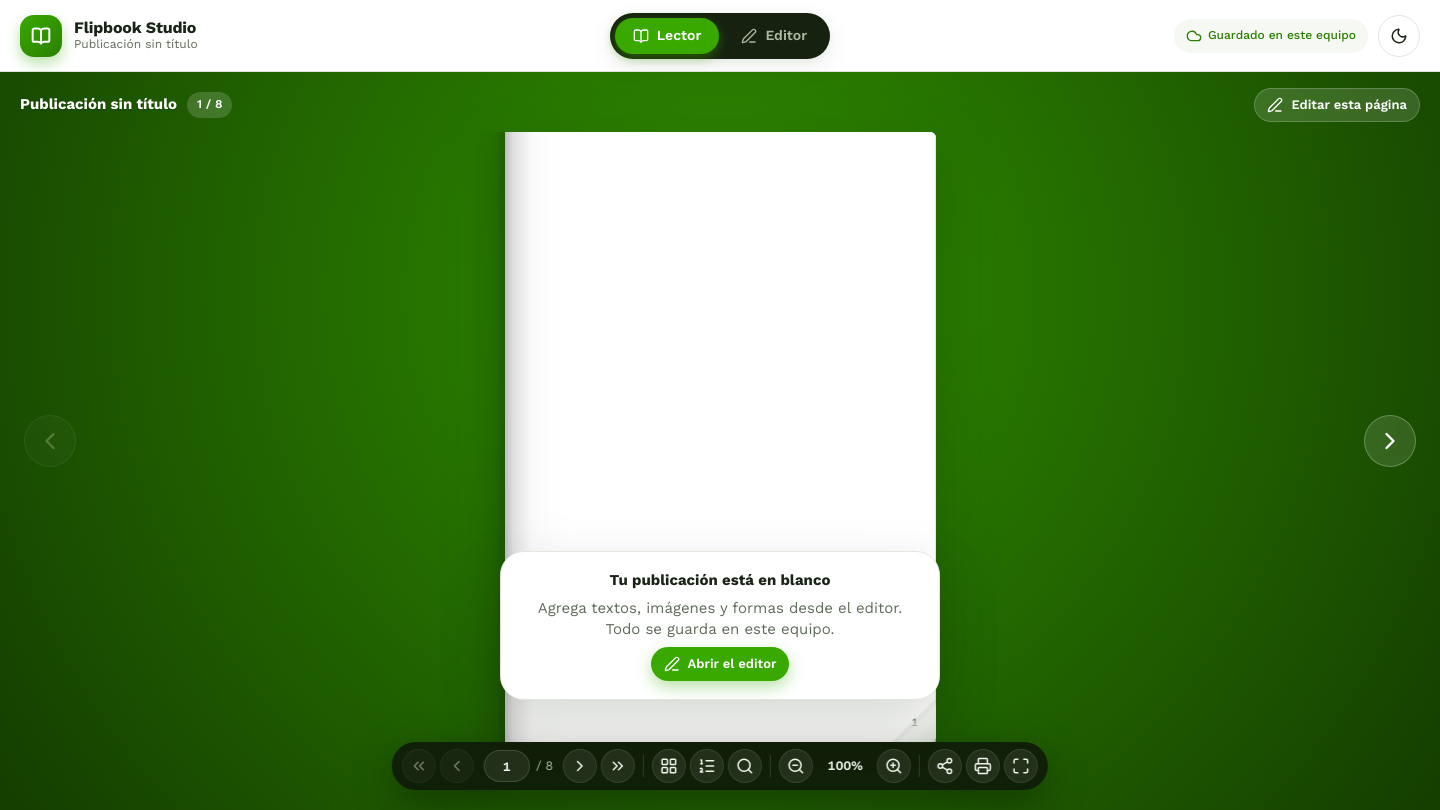
Test: integración: lector › muestra la portada y navega con teclado y botones
Expected: the text "1 / 8" is shown, top-left (187, 92), bottom-right (232, 118)
Press ArrowRight
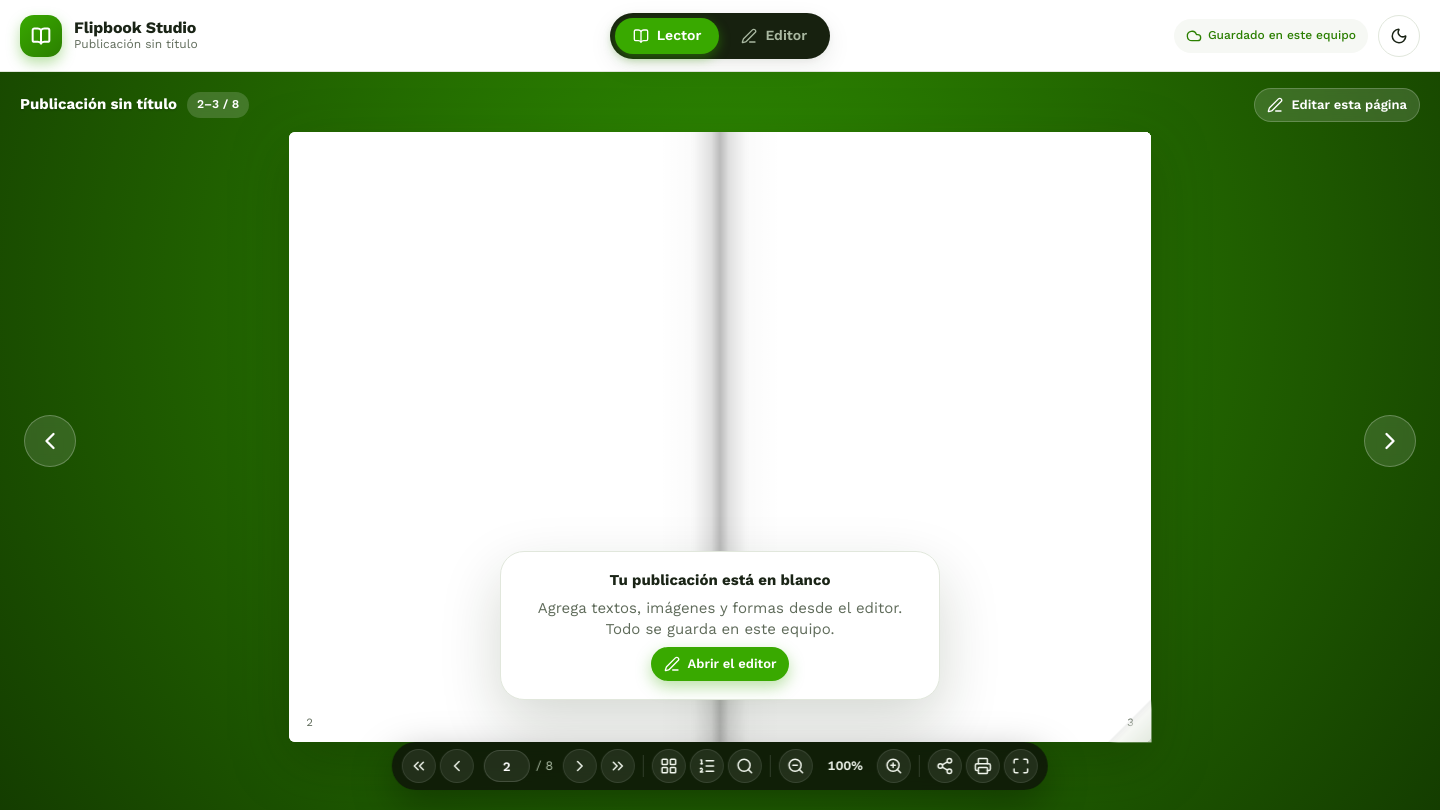
Now the text "2–3 / 8" is shown, box top-left (187, 92), bottom-right (249, 118)
Press End
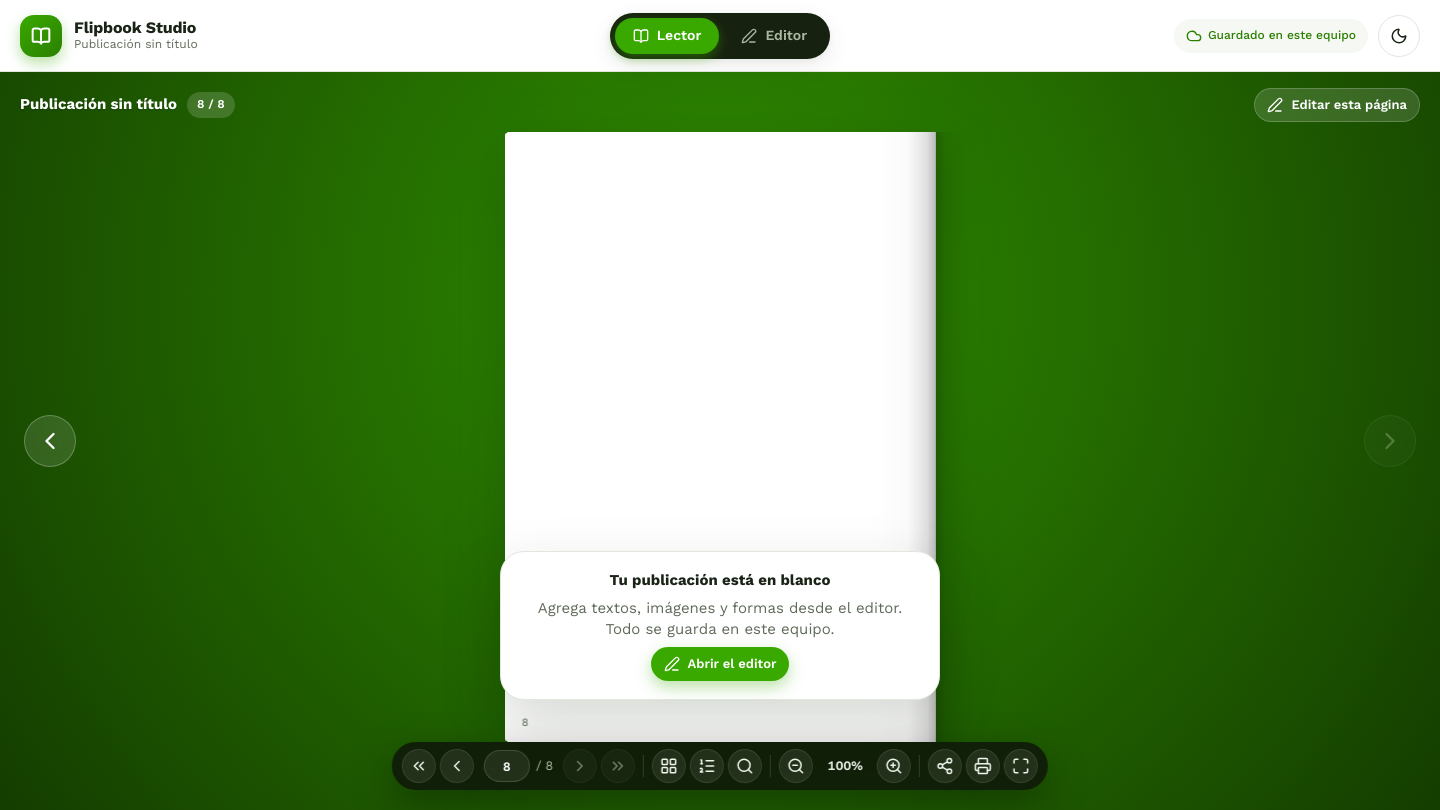
Now the text "8 / 8" is shown, box top-left (187, 92), bottom-right (235, 118)
Click the button named "Primera página".
click(419, 766)  # box top-left (402, 749), bottom-right (436, 783)
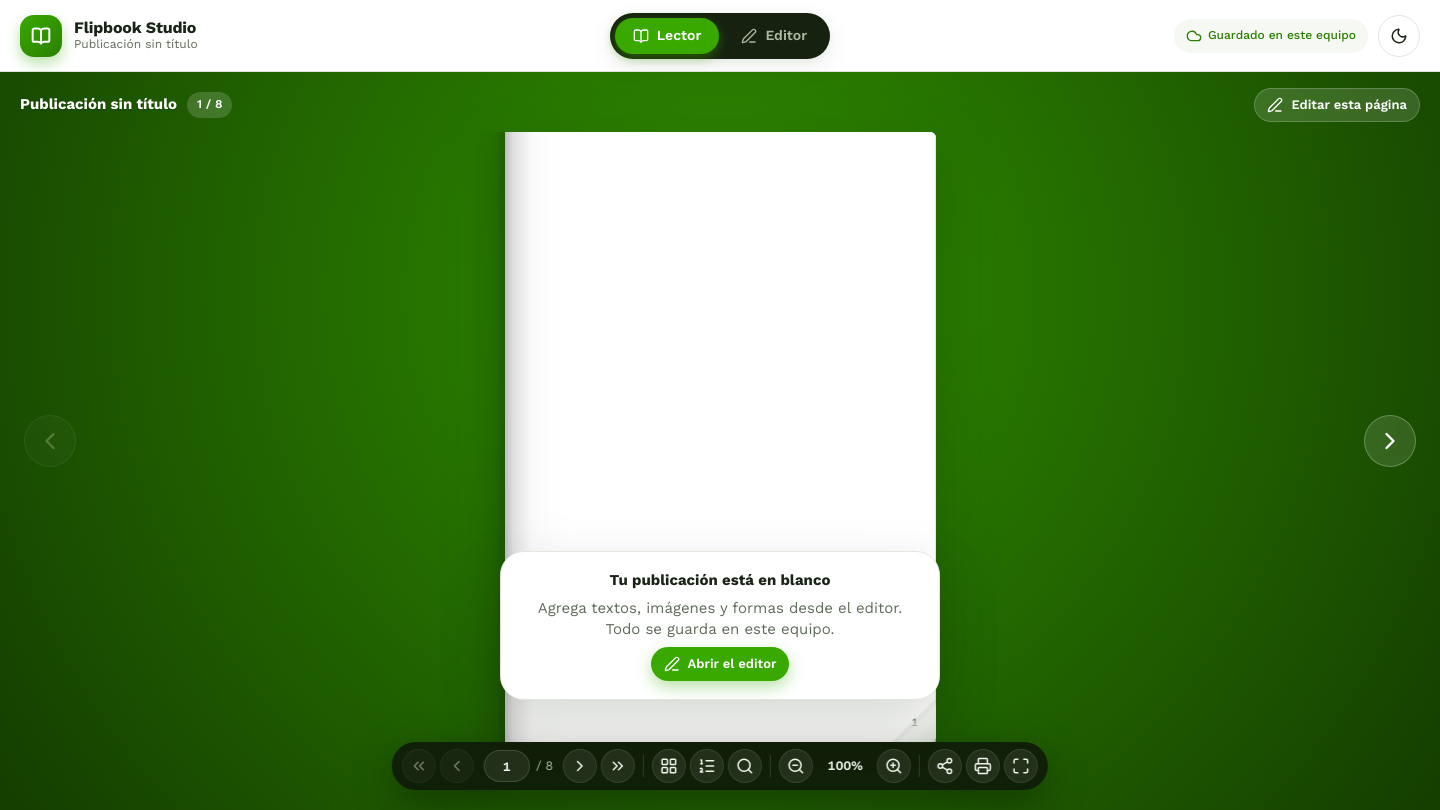
Now the text "1 / 8" is shown, box top-left (187, 92), bottom-right (232, 118)
Click the button named "Página siguiente".
click(1390, 441)  # box top-left (1364, 415), bottom-right (1416, 467)
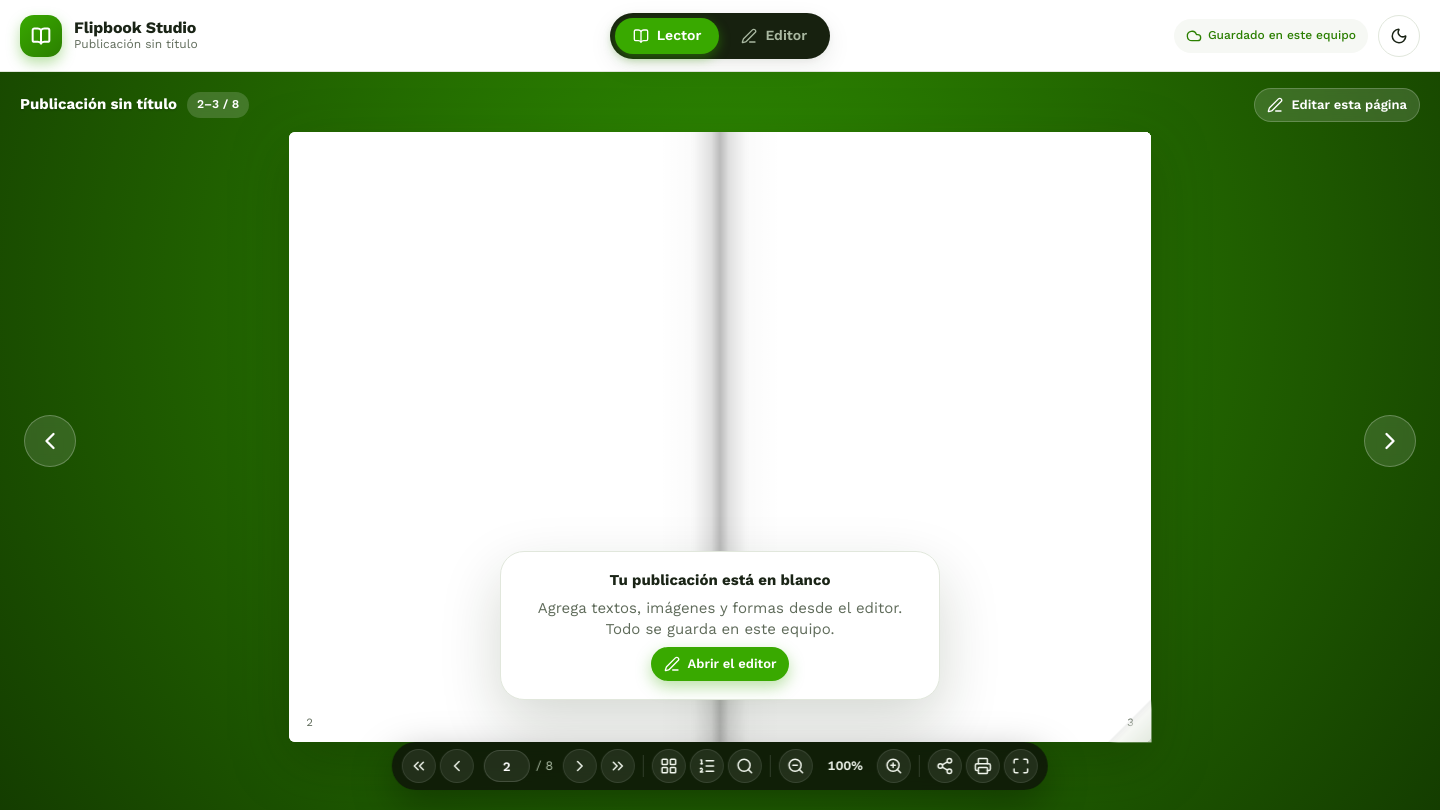
Now the text "2–3 / 8" is shown, box top-left (187, 92), bottom-right (249, 118)
